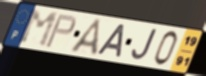0: (153, 30, 180, 66)
A: (68, 17, 103, 58), (94, 23, 127, 59)
J: (130, 28, 159, 62)
M: (18, 9, 60, 49)
P: (43, 13, 78, 50)
